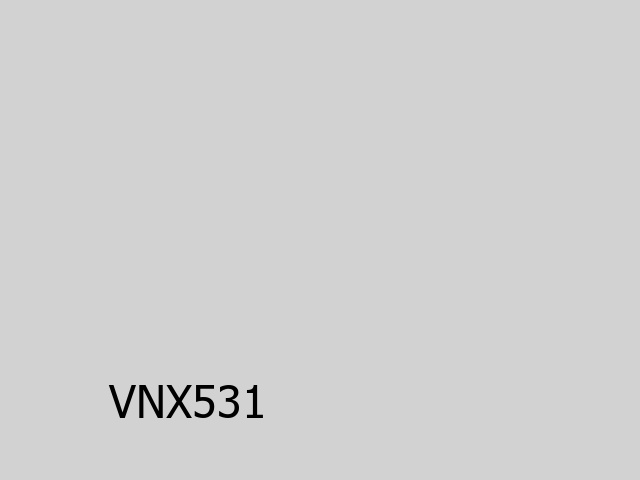OCR_AREA: (104, 381, 271, 422)
